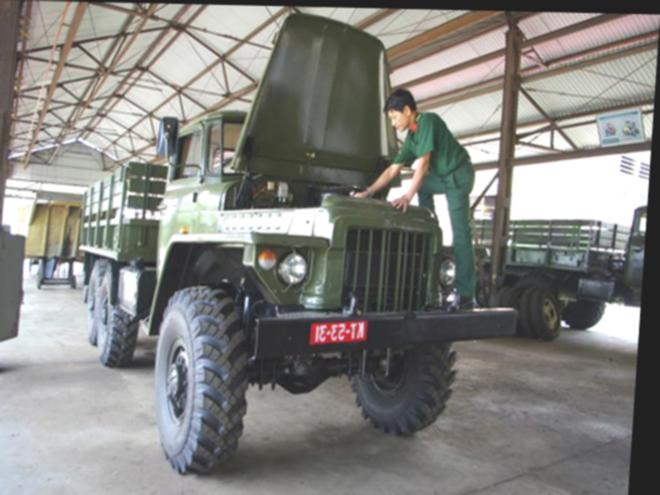License_Plate: (307, 316, 367, 347)
